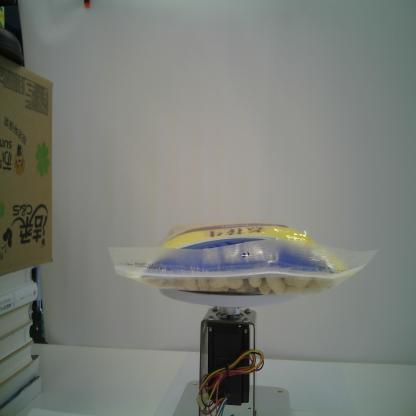Dried Food: (106, 220, 380, 301)
